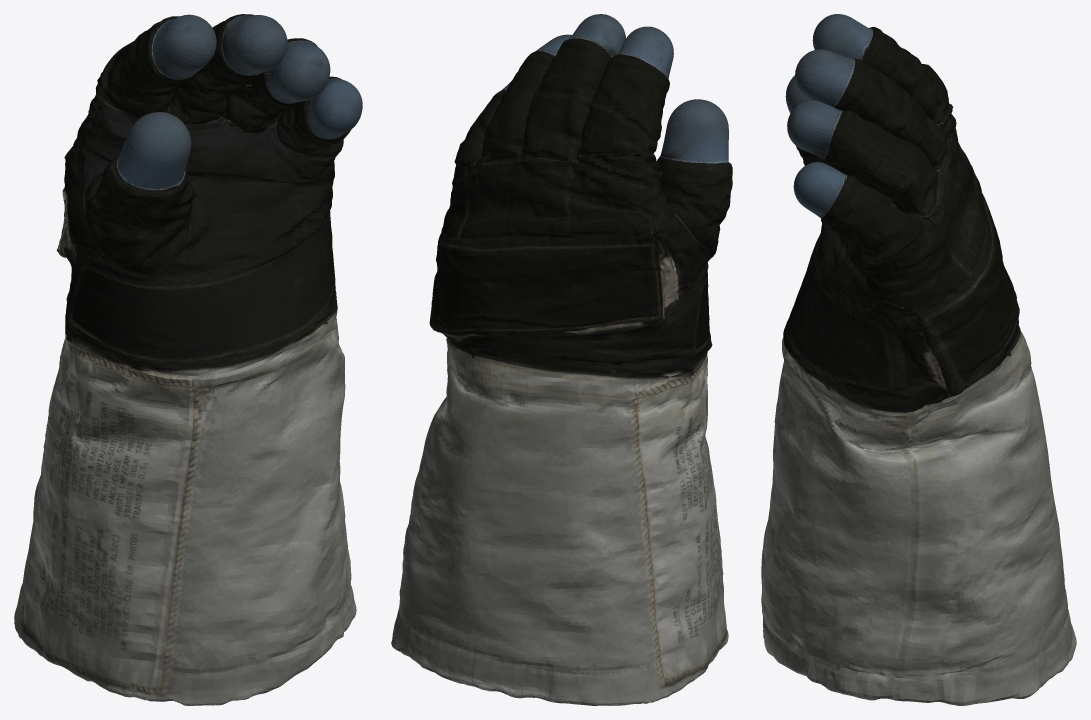
Rendered from left.glb.
The picture shows the model from 3 angles, left to right: view 1: azimuth 30°, elevation 25°; view 2: azimuth 150°, elevation 25°; view 3: azimuth 270°, elevation 25°; orthographic projection. The views are drawn at different scales.
Bounding box in the file's own units: 146 × 310 × 144.
1 material, 1 textured.
